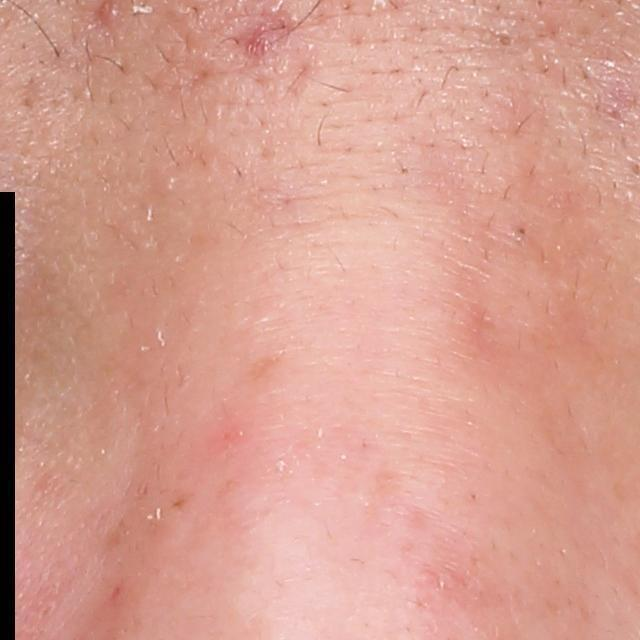comedo: (496, 26, 517, 52), (514, 223, 529, 242)
